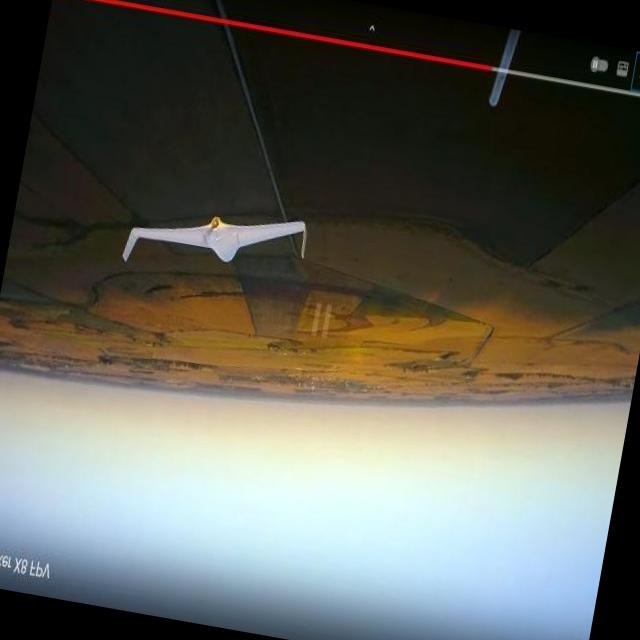UAV: (105, 162, 346, 328)
